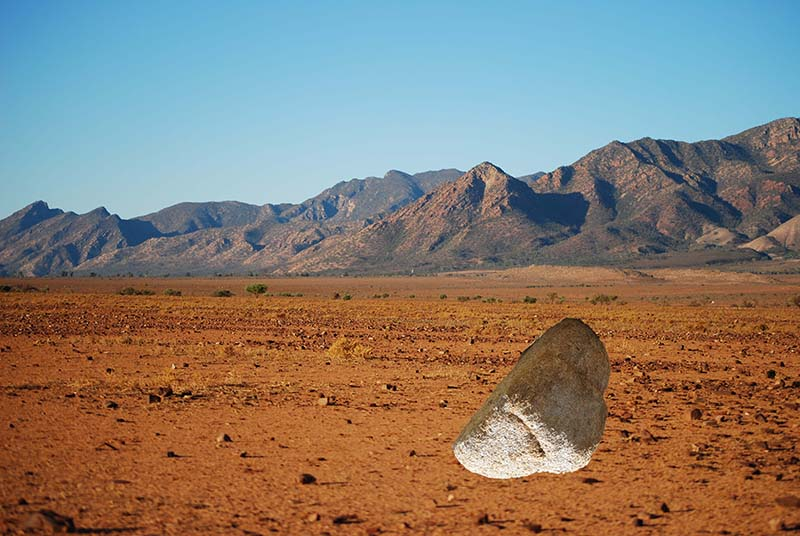Rocks: (448, 313, 613, 492)
